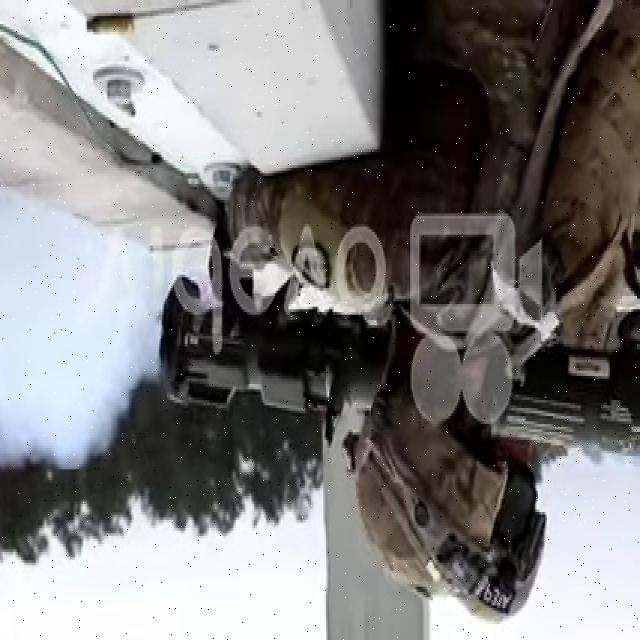bazooka: (155, 259, 640, 474)
